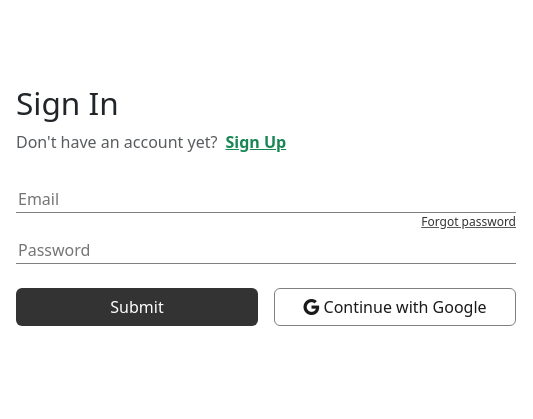
Test: renders signup form
Click the text "Sign Up". click: [252, 142]
box: [218,131,286,153]
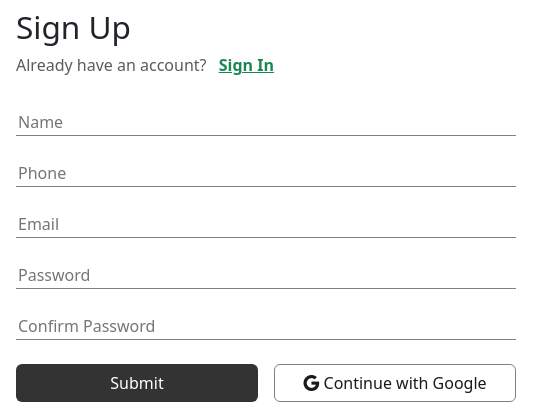
Now the field with placeholder "Name" is shown, box [16,109,516,136]
Now the password field with placeholder "Confirm Password" is shown, box [16,313,516,340]
Now the field with placeholder "Phone" is shown, box [16,160,516,187]
